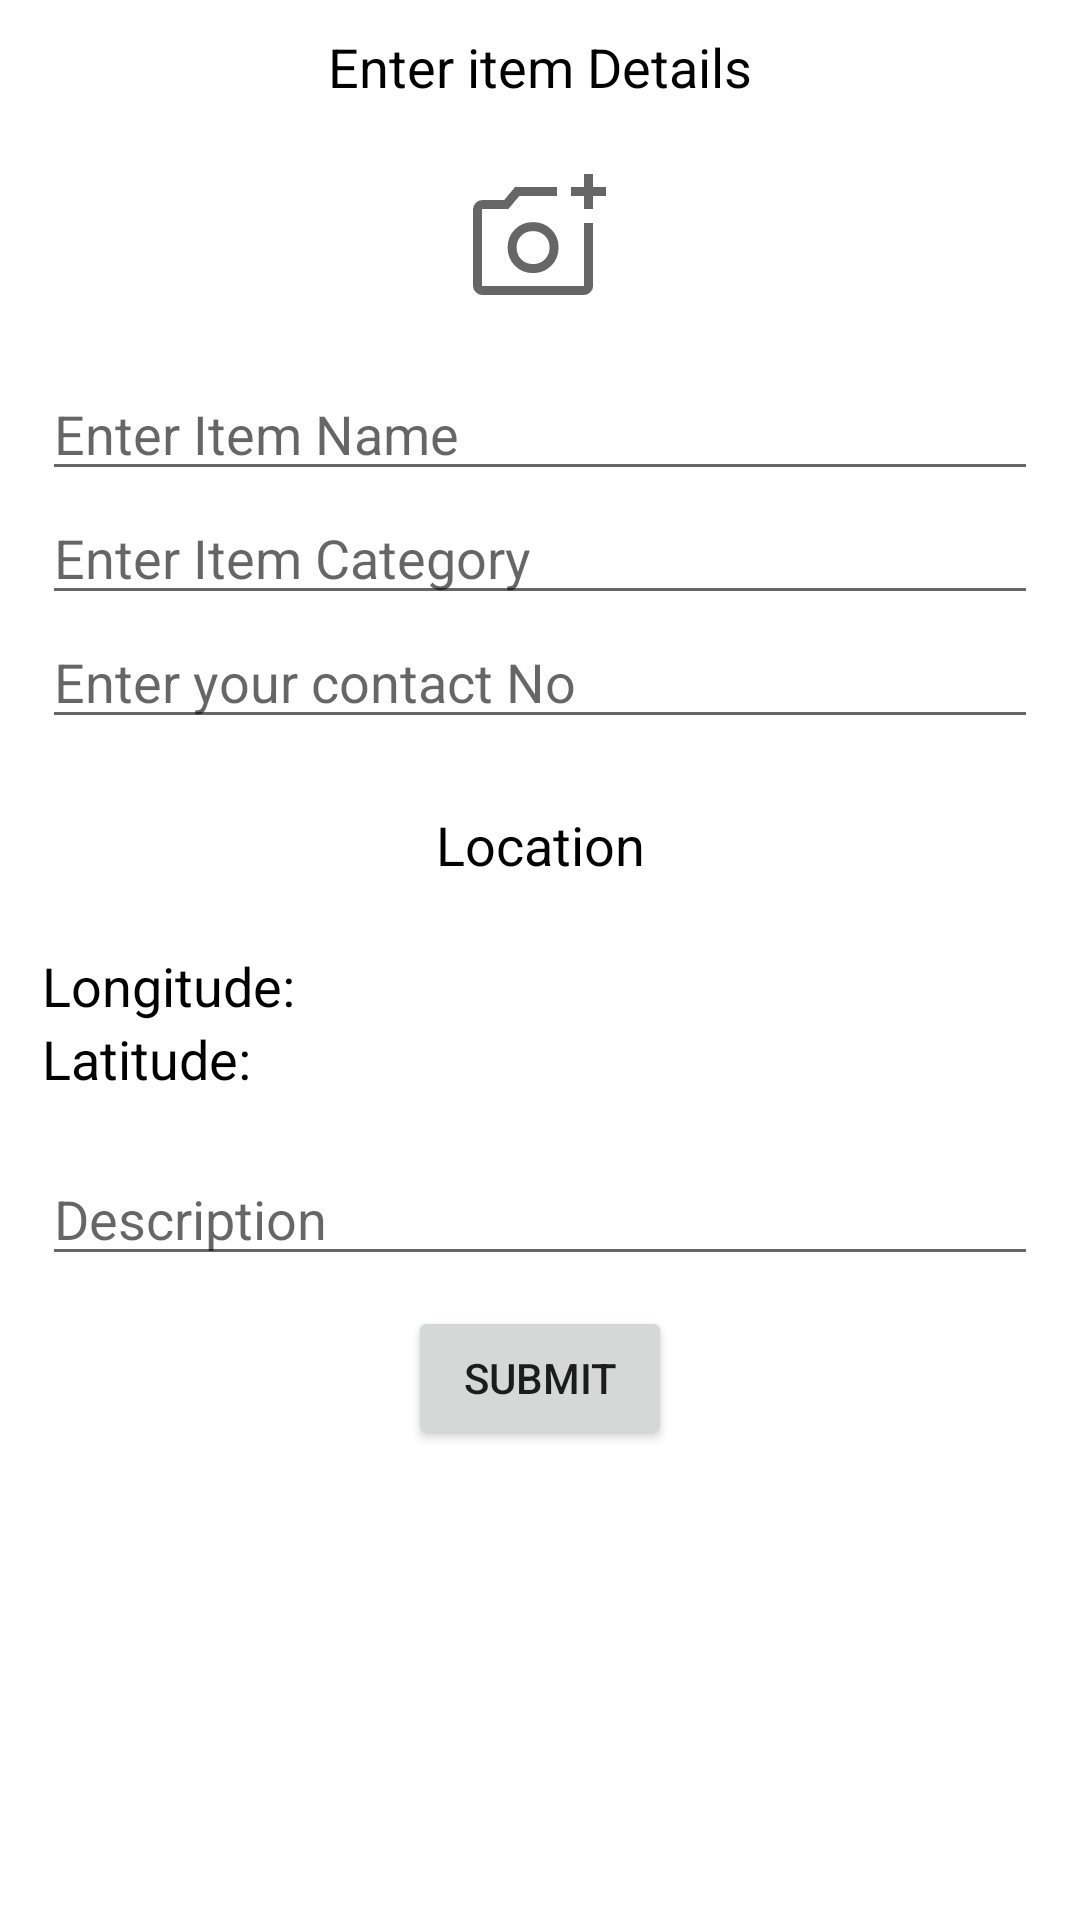

Point at icon controls on the screen. Image size 1080*1920, points as [x,y].
add: [539,234]
